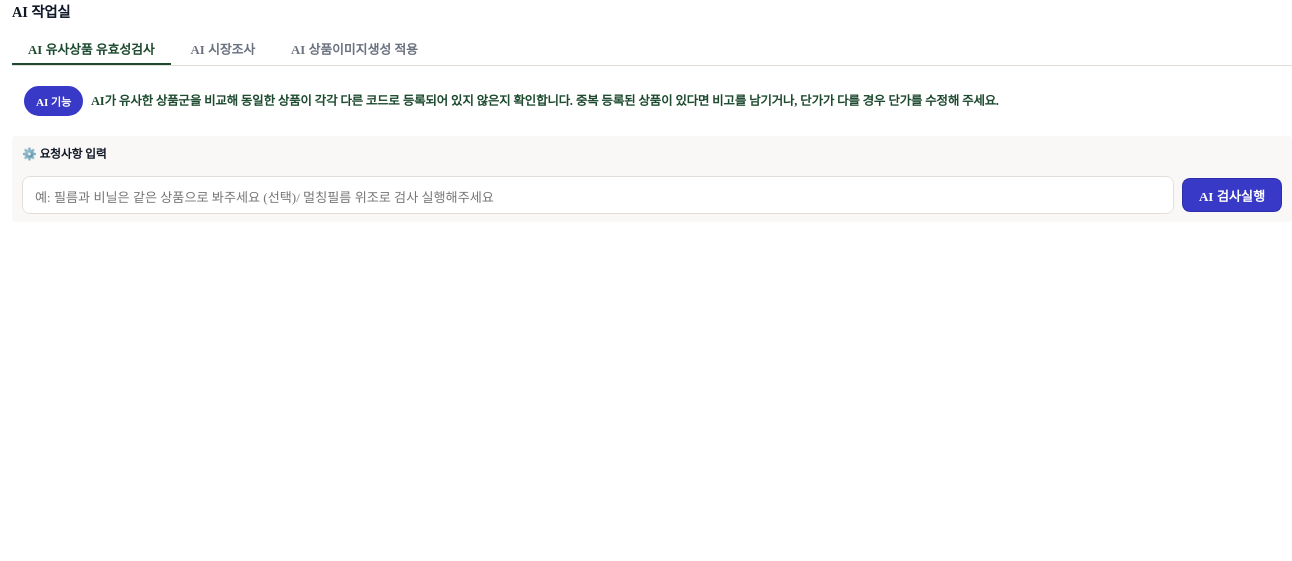
it: WorkbookAiRecommendationPanel › renders the market research report once it completes
The width and height of the screenshot is (1292, 561).
Click the tab "AI 시장조사".
click(223, 50)  # box [175,34,271,65]
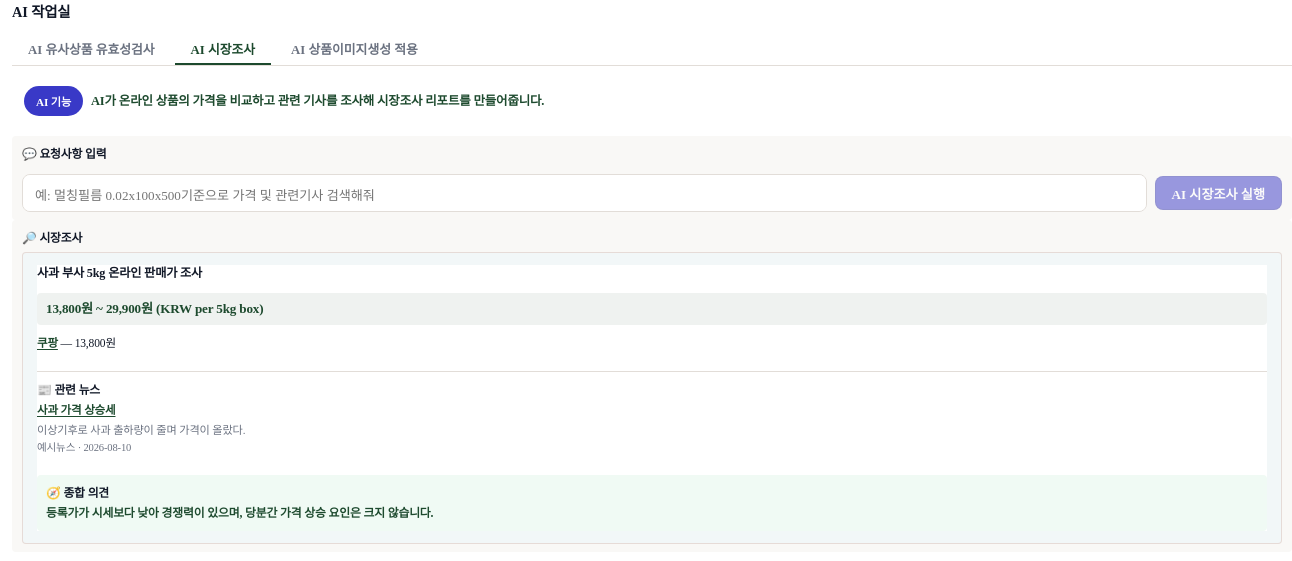
expect the text "사과 부사 5kg 온라인 판매가 조사" is shown: met, box [37,266,202,280]
expect the text "13,800원 ~ 29,900원 (KRW per 5kg box)" is shown: met, box [37,293,1267,325]
expect the text "등록가가 시세보다 낮아 경쟁력이 있으며, 당분간 가격 상승 요인은 크지 않습니다." is shown: met, box [46,506,433,520]
